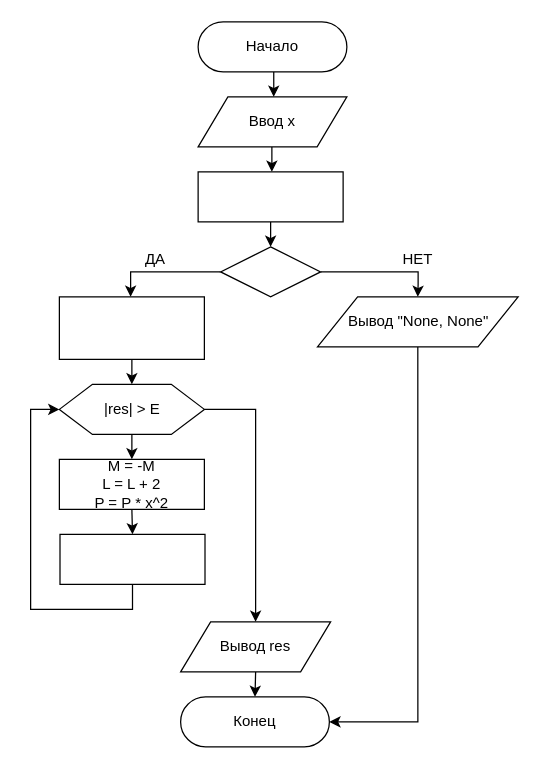
This 540x769 diagram has some shape labels left out. The box of each missing label's shape, as (x1, y1, x2, y2) in pixels:
E = 10^-3, 10^-5: (197, 171, 343, 222)
n = i, M = -1, L = 1, P = x, res = M/(L*P): (58, 296, 204, 359)
res = res + M/(L*P): (59, 533, 205, 584)
x > 1: (219, 246, 321, 297)
